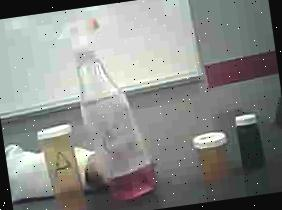Bottle A: (29, 116, 99, 210)
Bottle B: (187, 124, 238, 186)
Bottle C: (226, 106, 278, 175)
hazard: (61, 6, 178, 210)
